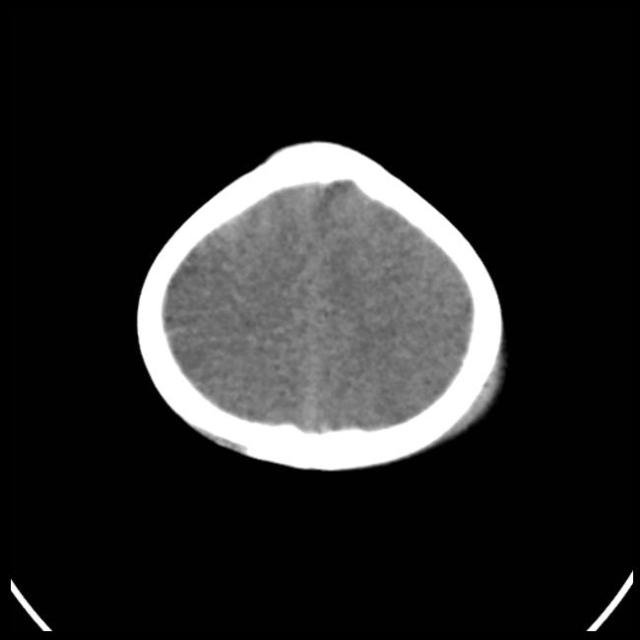lesion: (131, 134, 512, 476)
